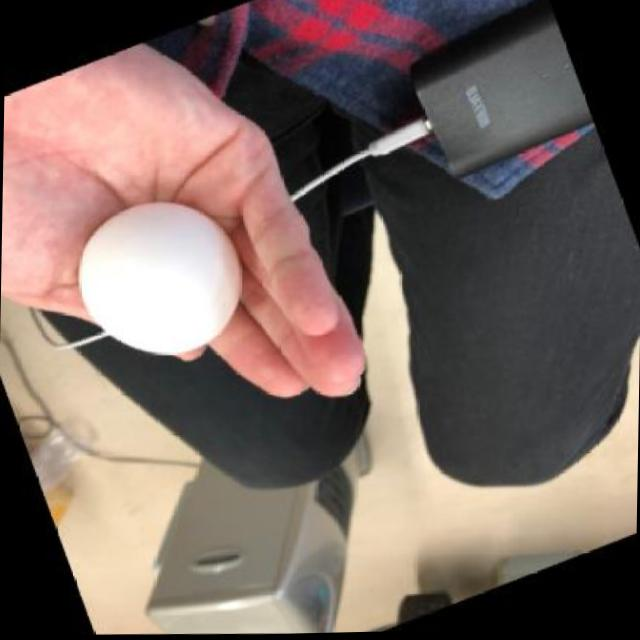egg: (75, 192, 246, 360)
